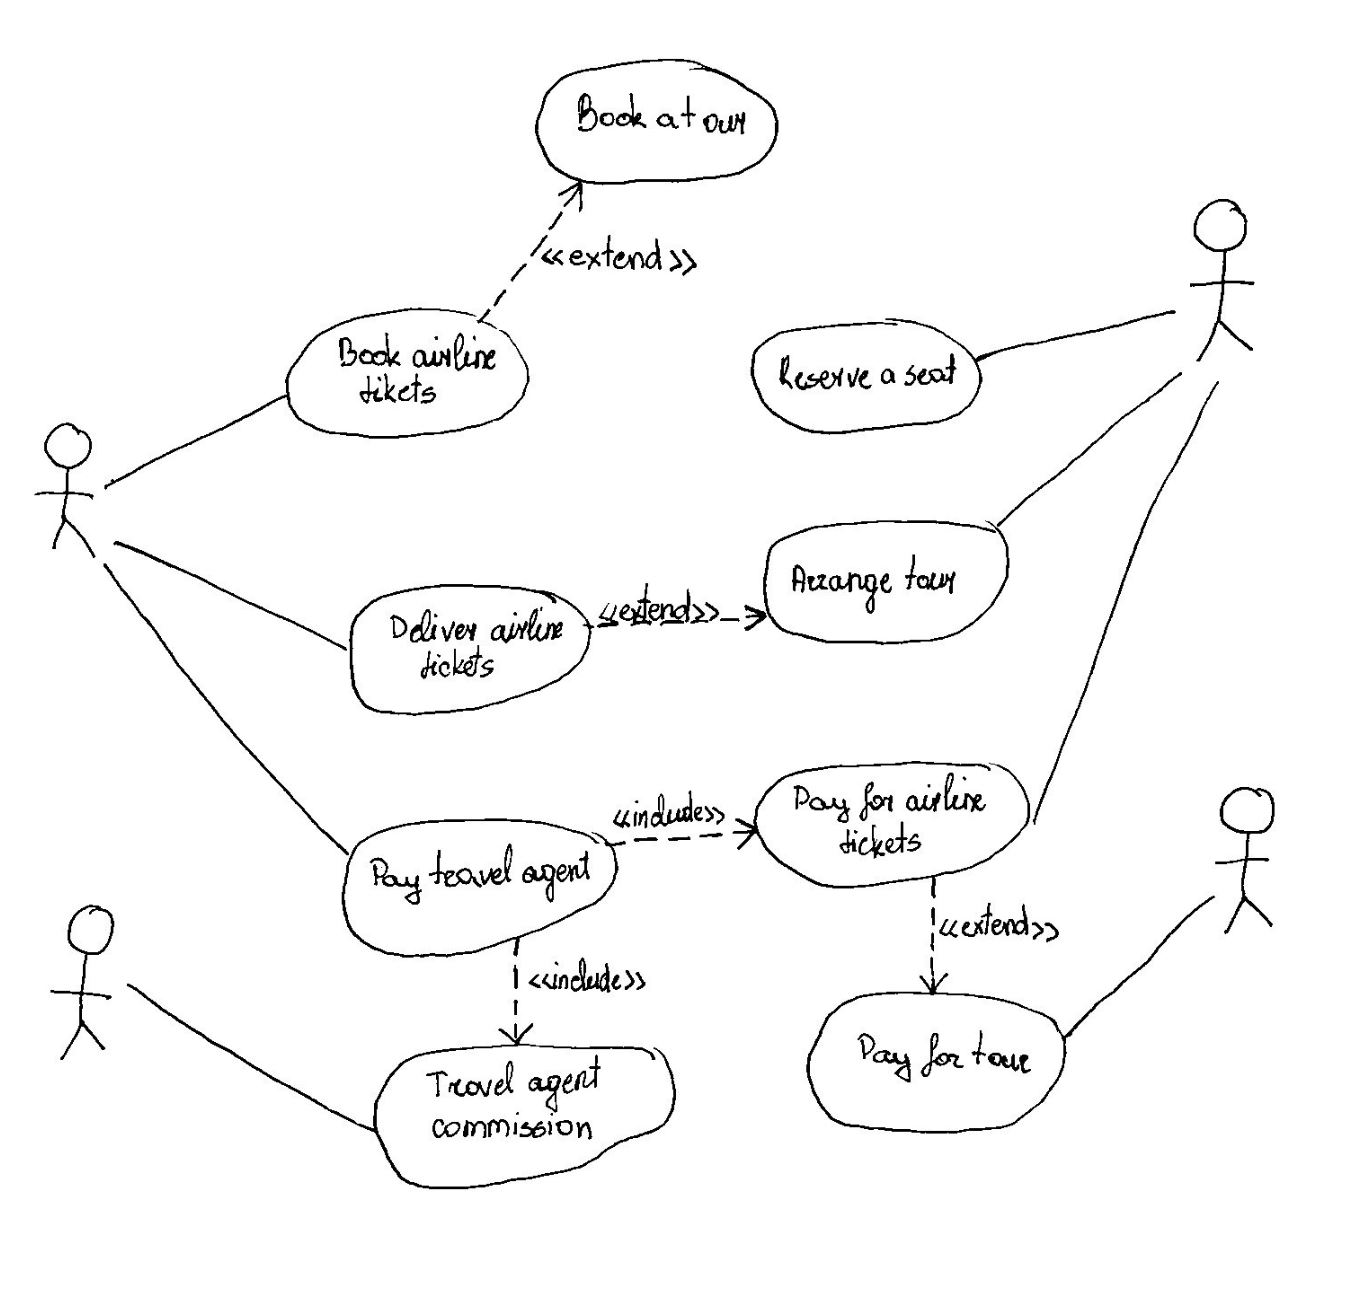actor: (37, 900, 125, 1066), (1190, 195, 1262, 362), (1211, 777, 1281, 939), (39, 418, 100, 562)
association: (1028, 374, 1220, 829), (105, 560, 345, 855), (125, 978, 374, 1129), (999, 371, 1184, 528), (108, 534, 346, 652), (1070, 886, 1219, 1042), (98, 391, 287, 490), (484, 178, 585, 320), (976, 301, 1181, 359), (591, 598, 764, 640), (615, 812, 750, 854), (500, 942, 537, 1042)
text: (430, 1057, 621, 1151), (792, 774, 989, 864), (366, 839, 596, 907), (332, 330, 508, 410), (388, 605, 573, 679), (847, 1026, 1036, 1091), (574, 83, 752, 146), (785, 559, 965, 615), (773, 347, 959, 401), (542, 238, 708, 281), (939, 903, 1065, 950), (528, 952, 650, 1000), (600, 583, 724, 621), (613, 790, 730, 829)
use_case: (376, 1041, 676, 1193), (343, 815, 620, 958), (804, 990, 1065, 1140), (758, 758, 1031, 890), (345, 583, 594, 721), (283, 305, 530, 444), (534, 57, 780, 186), (764, 520, 1011, 646), (747, 316, 980, 439)
